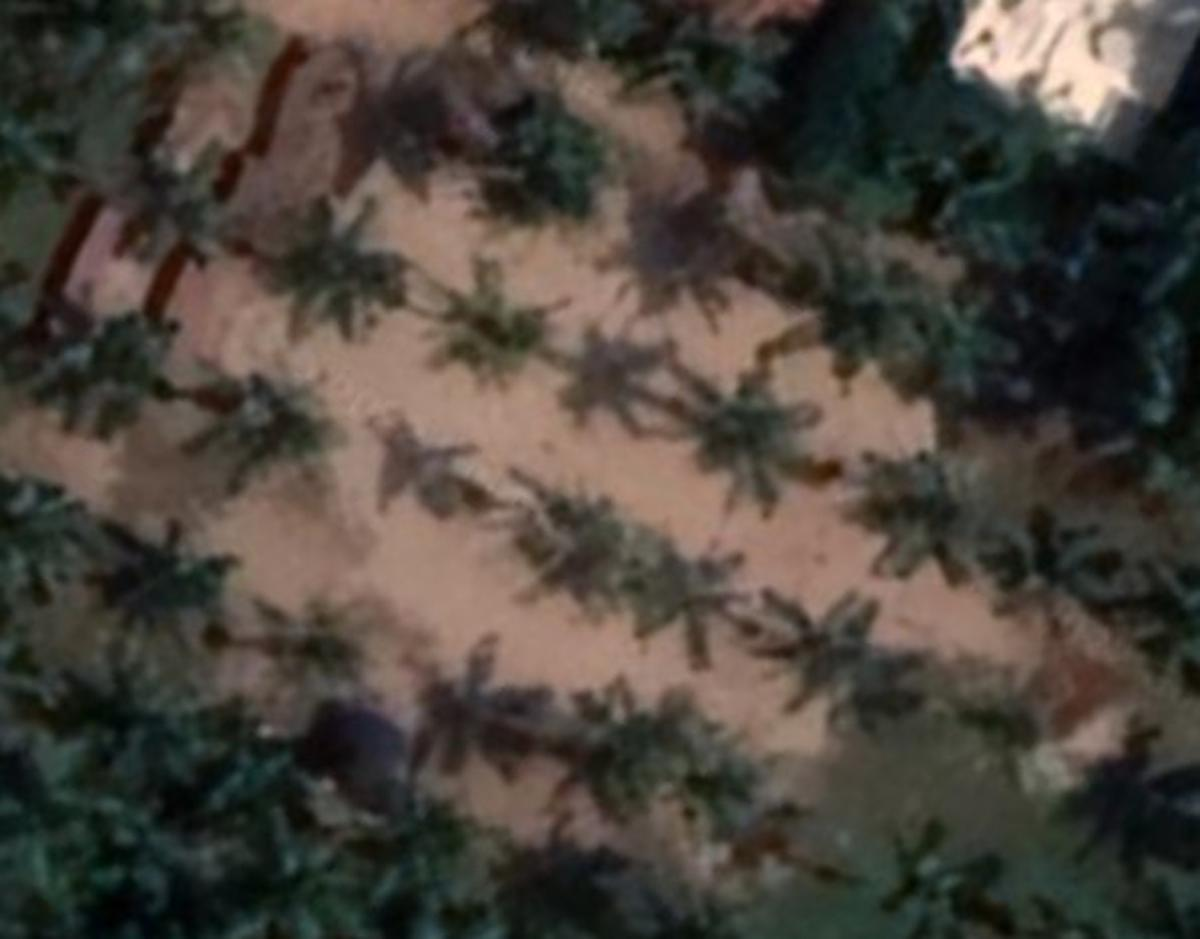coconut: (775, 589, 944, 745), (261, 191, 424, 345), (685, 353, 816, 524), (623, 532, 763, 685), (860, 440, 998, 565), (426, 257, 560, 382), (209, 378, 331, 508), (96, 516, 227, 623)
